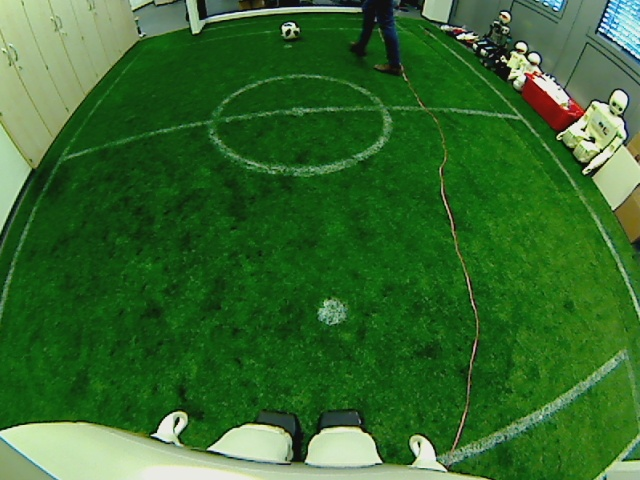ball: (280, 21, 300, 41)
